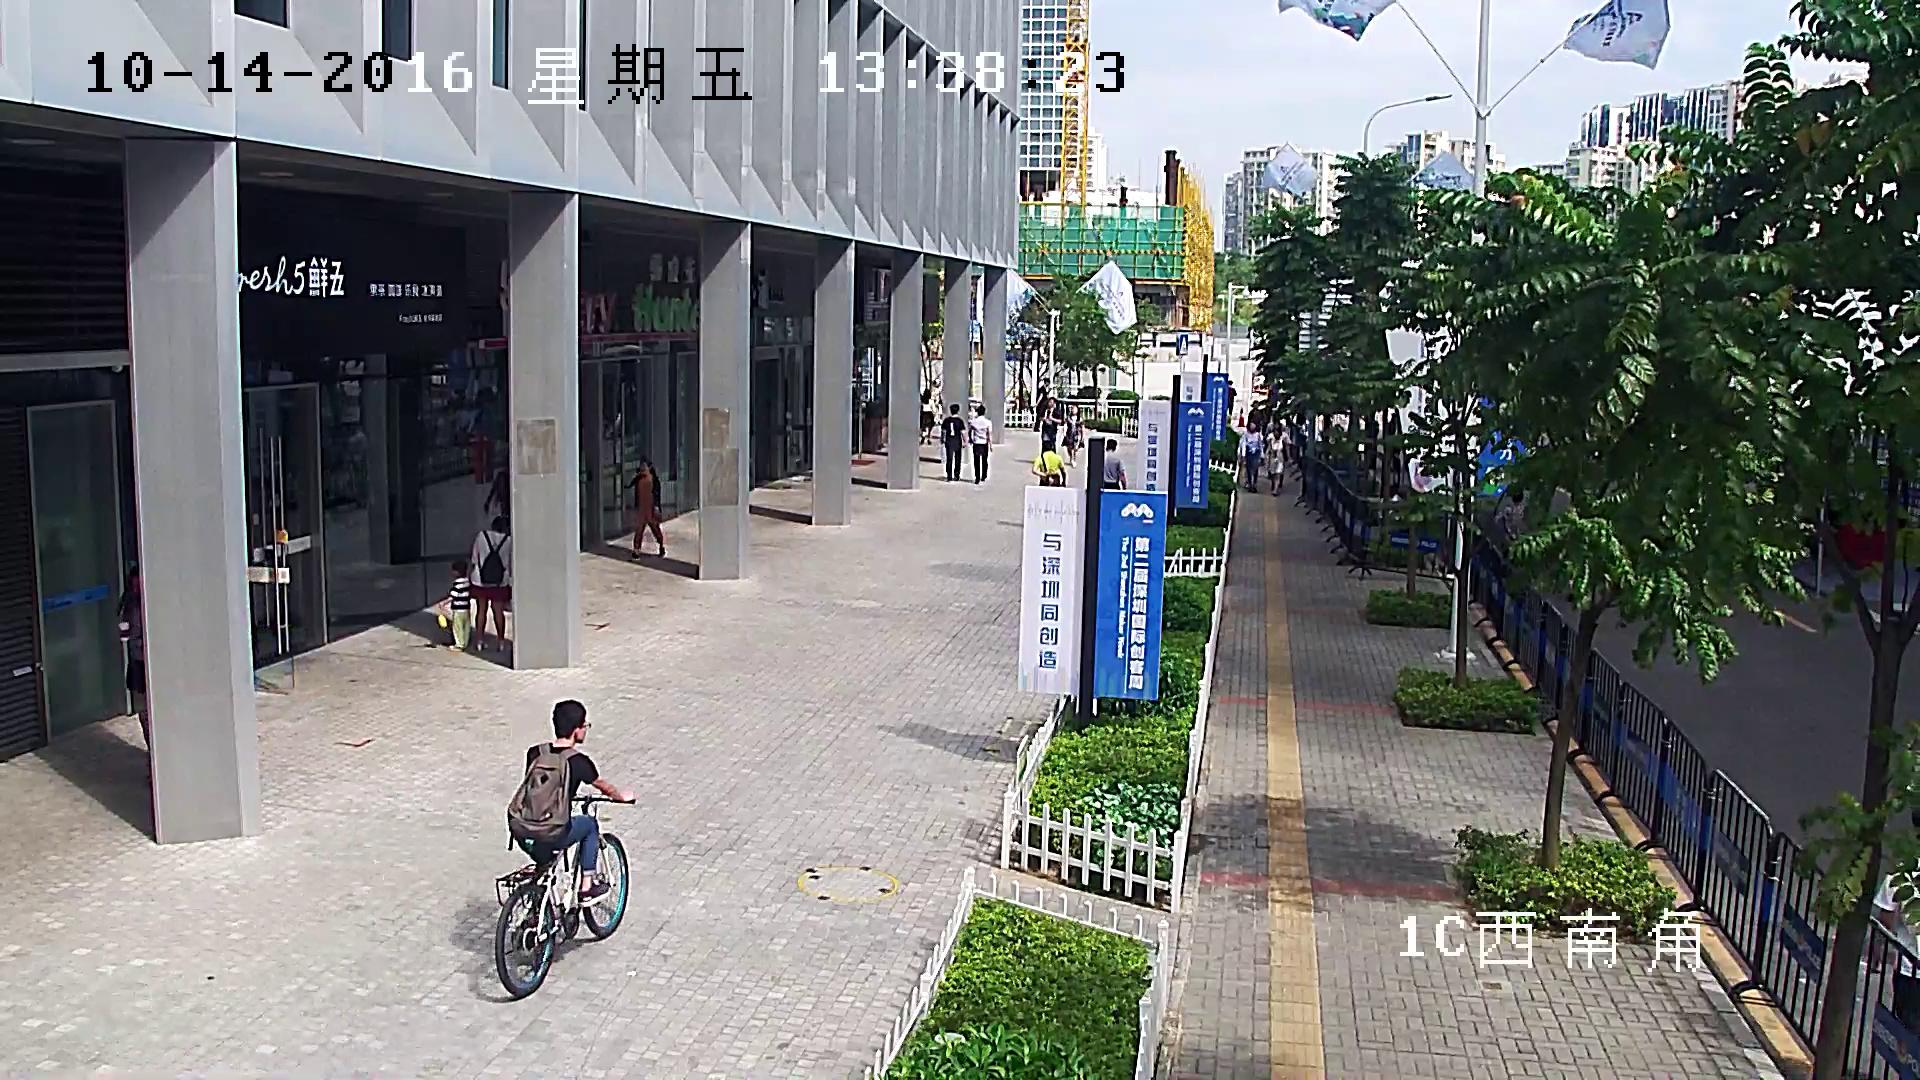person: (491, 698, 638, 999), (507, 699, 623, 908), (1872, 806, 1920, 1039), (468, 513, 511, 652), (622, 453, 665, 562), (436, 561, 470, 652), (939, 403, 968, 482), (968, 405, 993, 485), (1241, 420, 1265, 494), (1264, 427, 1289, 497), (1060, 404, 1085, 469), (1037, 395, 1064, 453), (1032, 439, 1066, 486), (1103, 437, 1126, 490), (1032, 377, 1052, 432), (920, 387, 936, 446), (1264, 418, 1284, 445), (1247, 399, 1263, 432), (1226, 378, 1236, 416)
